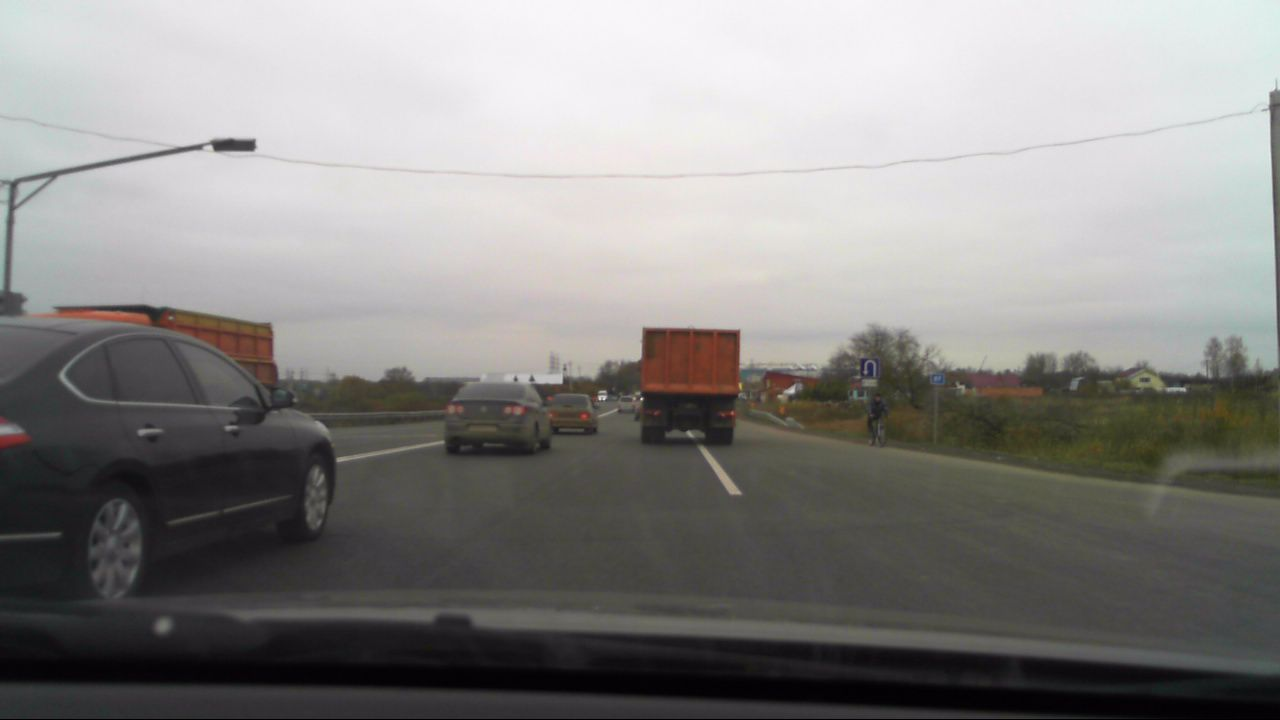U-turn: (861, 358, 878, 377)
